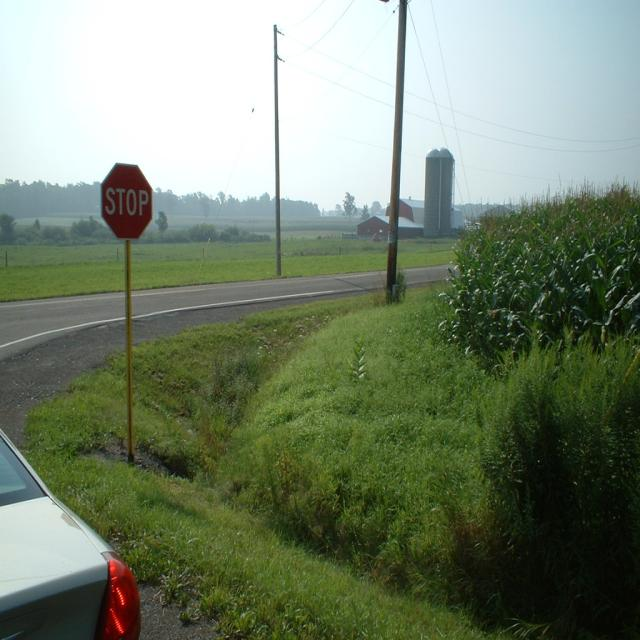Stop-sign: (100, 162, 154, 243)
